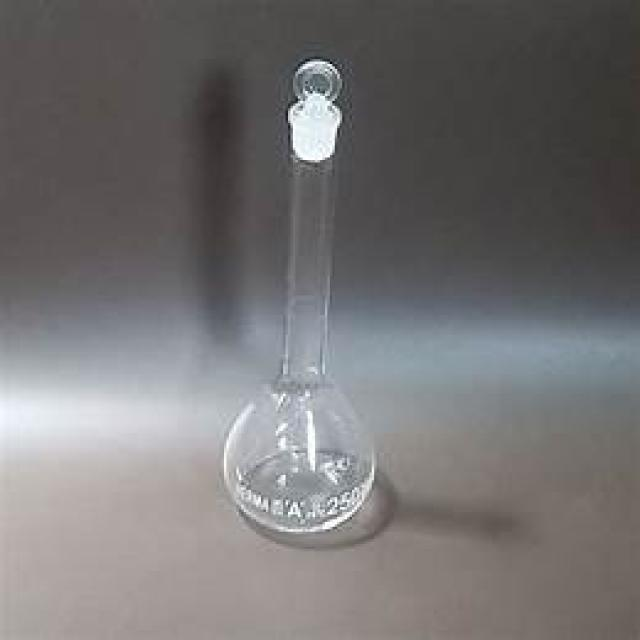Volumetric flask: (219, 47, 375, 531)
